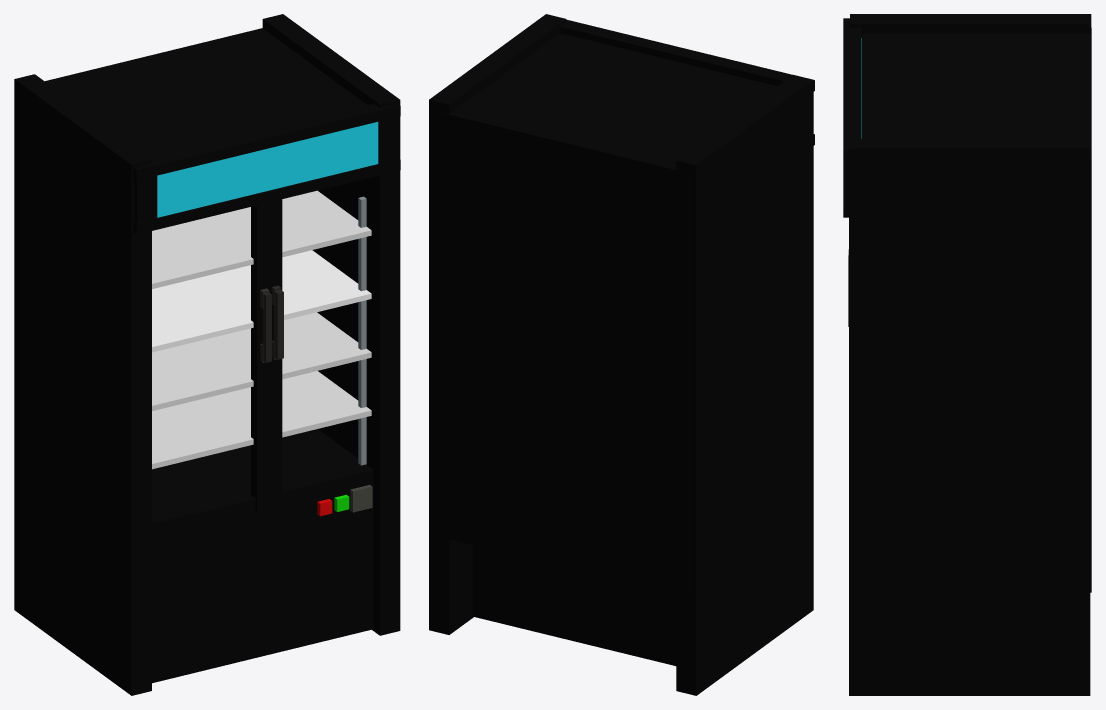
Rendered from Fridge.fbx.
3 renders of one model, left to right at view 1: azimuth 30°, elevation 25°; view 2: azimuth 150°, elevation 25°; view 3: azimuth 270°, elevation 25°, orthographic. The views are drawn at different scales.
Parts seen in each view (by area): view 1: Cube.008, Cube, Cube.007, Cube.001, 立方体.014, 立方体.015, 立方体.013, 立方体.001, Cube.002, 立方体.016, 立方体, Cube.005 (+6 smaller); view 2: 立方体, Cube.008, Cube.001, Cube, Cube.007, Cube.005; view 3: Cube.007, Cube.001, 立方体, Cube.008, Cube.005.
Part boxes in pixels (<box>): Cube.008: <box>14,74,151,695</box>; Cube: <box>152,429,373,683</box>; Cube.007: <box>262,14,400,635</box>; Cube.001: <box>74,49,366,157</box>; 立方体.014: <box>152,250,371,352</box>; 立方体.015: <box>152,190,371,288</box>; 立方体.013: <box>152,312,371,410</box>; 立方体.001: <box>152,371,371,469</box>; Cube.002: <box>157,122,378,217</box>; 立方体.016: <box>251,199,282,512</box>; 立方体: <box>45,28,290,102</box>; Cube.005: <box>133,103,400,180</box>; 立方体: <box>435,93,695,597</box>; Cube.008: <box>676,75,813,695</box>; Cube.001: <box>478,33,777,145</box>; Cube: <box>472,545,676,665</box>; Cube.007: <box>429,14,566,634</box>; Cube.005: <box>560,19,814,91</box>; Cube.007: <box>849,138,1090,695</box>; Cube.001: <box>862,34,1031,138</box>; 立方体: <box>1031,28,1091,592</box>; Cube.008: <box>850,14,1091,33</box>; Cube.005: <box>843,18,861,161</box>.
Bounding box in the file's own units: 1057 × 2000 × 822.
